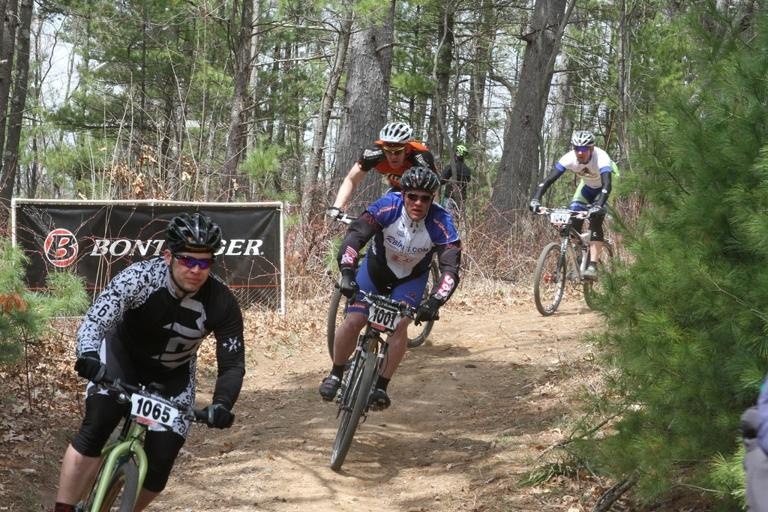non-vehicle: (71, 354, 233, 511), (324, 268, 439, 471), (326, 205, 439, 371), (527, 201, 616, 315)
